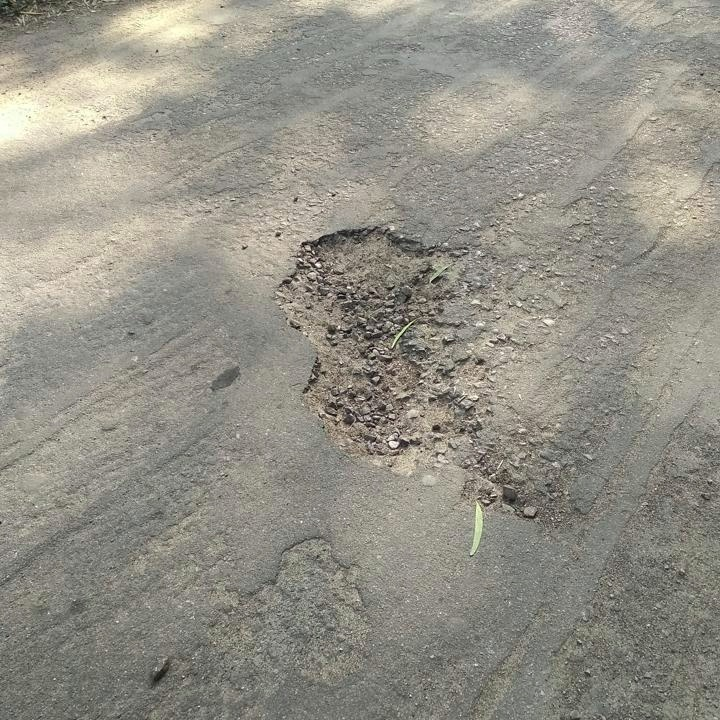pothole: (268, 223, 475, 475)
